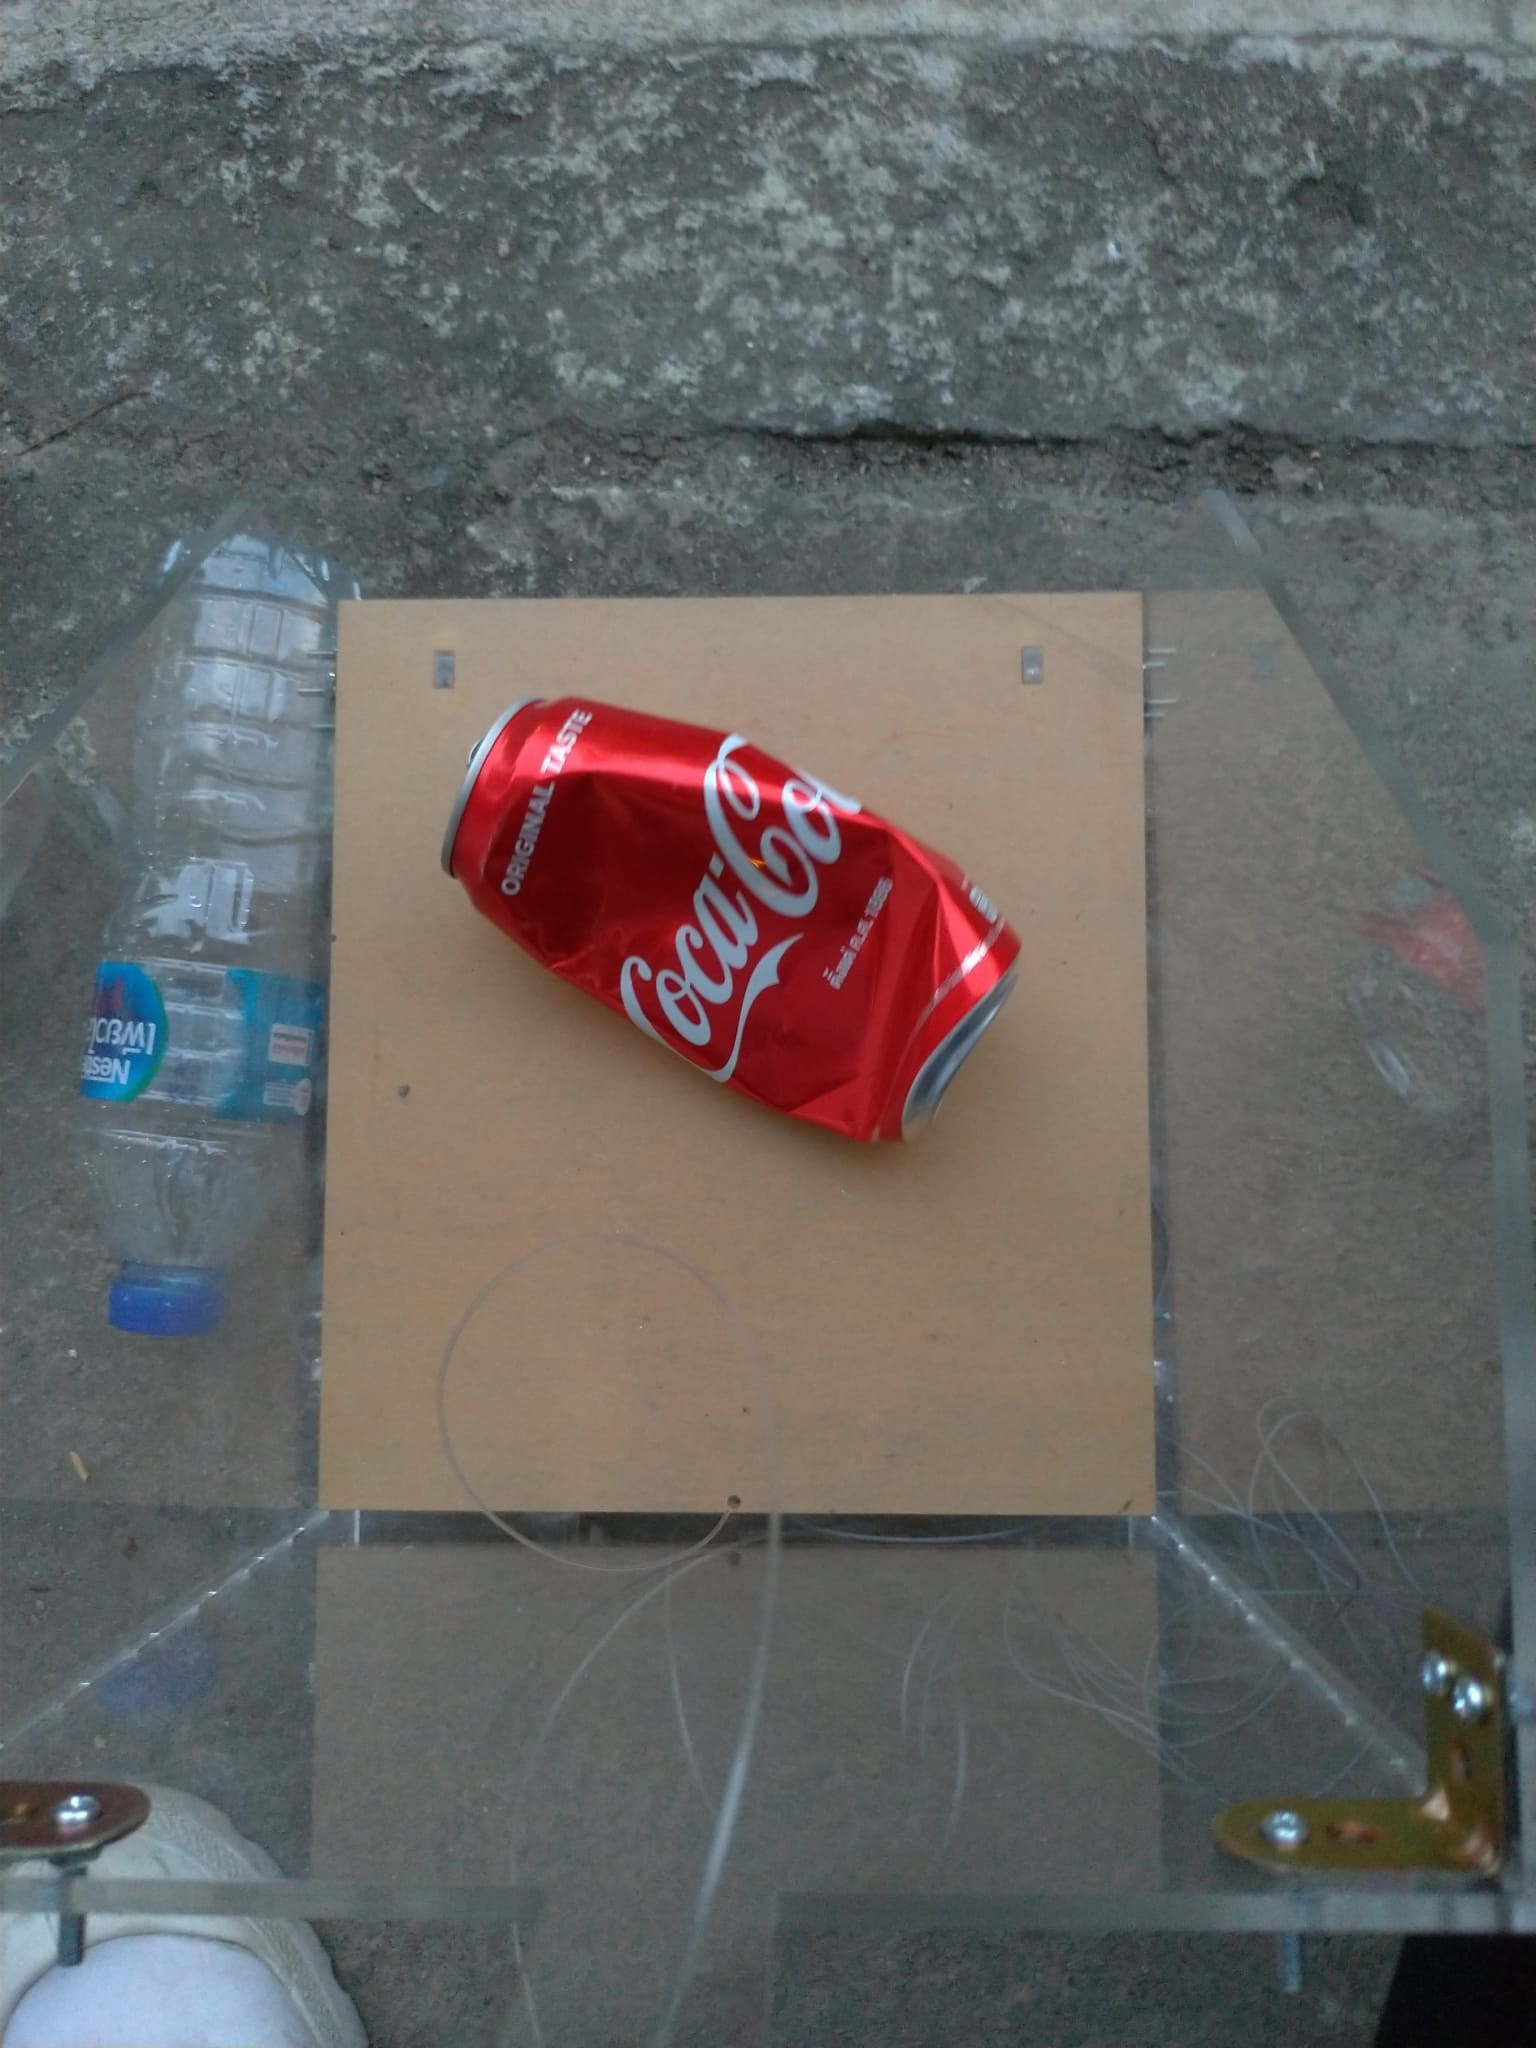AlCan: (445, 693, 1025, 1138)
PlasticBottle: (77, 532, 360, 1338)
